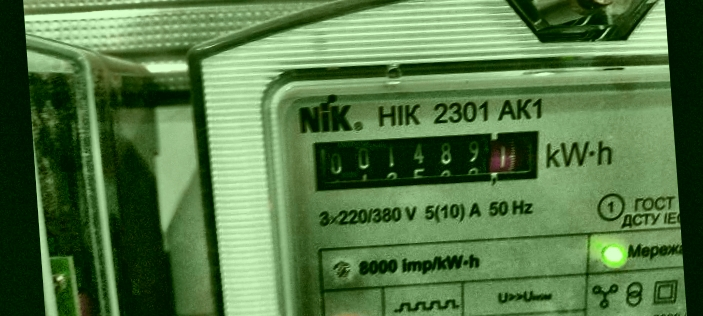0: (326, 149, 343, 175), (353, 143, 370, 169)
1: (382, 140, 398, 170), (494, 139, 508, 169)
4: (409, 139, 426, 166)
8: (435, 137, 453, 165)
9: (464, 137, 480, 163)
screen: (296, 114, 556, 208)
